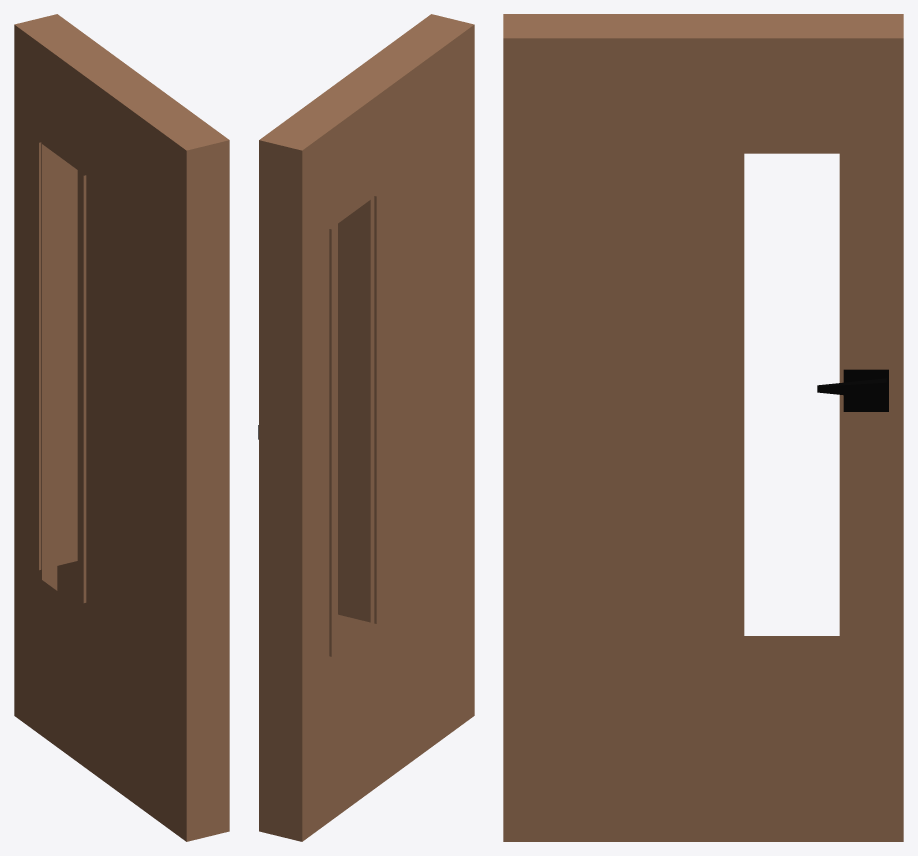
Rendered from DoorVisual.fbx.
The picture shows the model from 3 angles, left to right: view 1: azimuth 30°, elevation 25°; view 2: azimuth 150°, elevation 25°; view 3: azimuth 270°, elevation 25°; orthographic projection. The views are drawn at different scales.
Visible parts, largest first — view 1: Cube; view 2: Cube; view 3: Cube, Cube.003, Cube.002.
Part boxes in pixels (x1,y1,x2,y2): Cube: (14,14,229,841); Cube: (259,14,474,841); Cube: (503,14,903,841); Cube.003: (843,369,888,411); Cube.002: (817,378,886,399).
Size of the model in its own units: 35.92 by 443 by 200.
